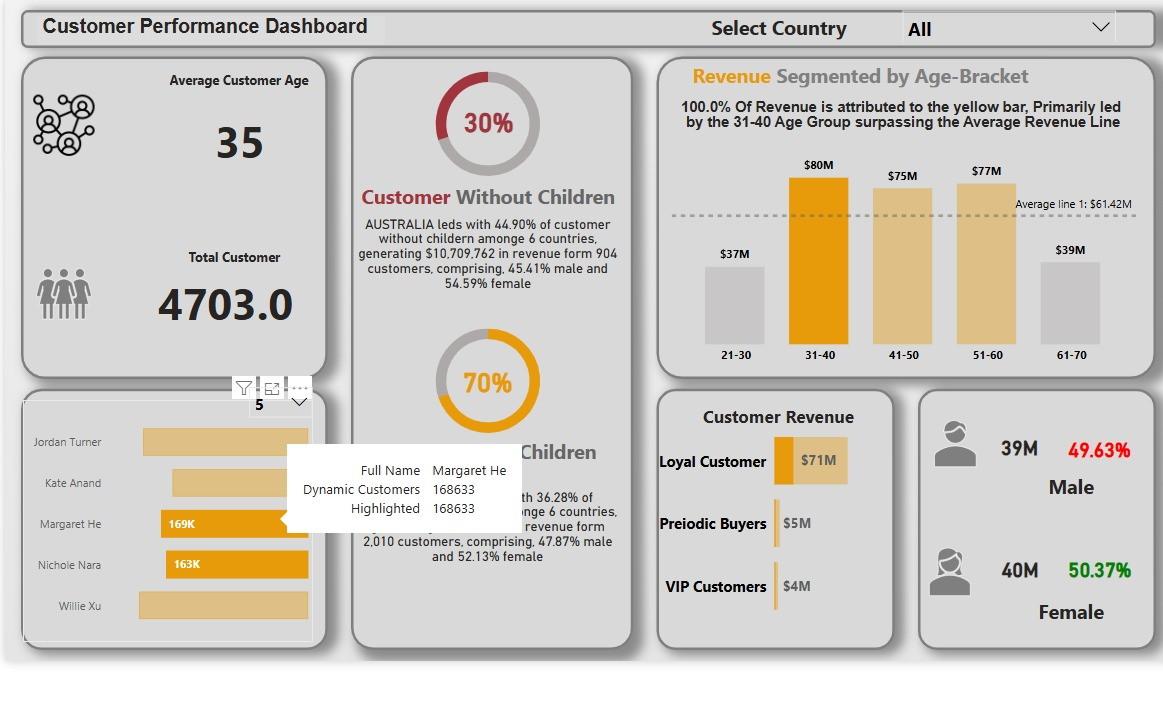

What the dashboard file says about the page in this screenshot:
{"tool":"powerbi","page":{"name":"Day Theme","canvas":[1280,720],"ordinal":0},"visuals":[{"type":"textbox","box":[35,19,378,30.6],"z":0},{"type":"clusteredColumnChart","fields":{"Category":["DimCustomer.Age Category"],"Y":["All Measures.Total Revenue"]},"box":[719.5,159.1,515.2,246.7],"z":1000},{"type":"card","title":"Total Customer","fields":{"Values":["Customer Measure.#Customer"]},"box":[163,282.6,153.3,93.5],"z":2000},{"type":"donutChart","fields":{"Y":["Customer Measure.% CWC","Customer Measure.% C Without childern"]},"box":[429.1,60.3,191.2,151.8],"z":3000,"group":"g2"},{"type":"card","fields":{"Values":["Customer Measure.Avg Caption"]},"box":[704.9,93.4,541.5,65.7],"z":3000},{"type":"textbox","box":[742.9,62.8,392.6,37.9],"z":4000},{"type":"donutChart","fields":{"Y":["Customer Measure.% CWC","Customer Measure.% C Without childern"]},"box":[429.1,338.6,191.2,151.8],"z":4000,"group":"g1"},{"type":"group","id":"g1","title":"Group 2","box":[429.1,338.6,191.2,151.8],"z":5000},{"type":"textbox","box":[173.9,73.9,170.7,38],"z":6000},{"type":"card","fields":{"Values":["Customer Measure.% C Without childern"]},"box":[484.6,99.7,81.7,67.1],"z":6000,"group":"g2"},{"type":"group","id":"g2","title":"Group 3","box":[429.1,60.3,191.2,151.8],"z":7000},{"type":"card","fields":{"Values":["Customer Measure.% CWC"]},"box":[481.6,391.1,86.1,46.7],"z":7000,"group":"g1"},{"type":"textbox","box":[382.4,194.1,299.2,40.9],"z":8000},{"type":"textbox","box":[397,471.4,268.6,37.9],"z":9000},{"type":"card","fields":{"Values":["Customer Measure.Caption Customer Without Children"]},"box":[375.1,510.8,299.2,127],"z":10000},{"type":"card","fields":{"Values":["Customer Measure.Caption Customer With Children"]},"box":[375.1,214.5,299.2,127],"z":11000},{"type":"barChart","fields":{"Category":["DimCustomer.Customer Type"],"Y":["All Measures.Total Revenue"]},"box":[704.3,435.7,257.1,262.9],"z":12000},{"type":"clusteredBarChart","fields":{"Category":["DimCustomer.Full Name"],"Y":["Customer Measure.Dynamic Customers"]},"box":[20,436.2,315,262.5],"z":13000},{"type":"slicer","fields":{"Values":["Dynamic Customer.Dynamic Customer"]},"box":[255.4,412,89.1,45.7],"z":14000},{"type":"card","fields":{"Values":["Customer Measure.Male Revenu"]},"box":[1060.9,462,83.7,52.2],"z":15000},{"type":"card","fields":{"Values":["Customer Measure.Female Revenu"]},"box":[1066.3,583.7,73.9,73.9],"z":16000},{"type":"card","fields":{"Values":["Customer Measure.% Male"]},"box":[1144.6,463,90.2,54.3],"z":17000},{"type":"card","fields":{"Values":["Customer Measure.% Female"]},"box":[1144.6,583.7,90.2,73.9],"z":18000},{"type":"card","fields":{"Values":["Customer Measure.Average Customer Age"]},"box":[194.6,112,121.7,82.6],"z":19000},{"type":"textbox","box":[194.6,266.3,170.7,38],"z":20000},{"type":"textbox","box":[1023.9,509.8,232.6,42.4],"z":21000},{"type":"textbox","box":[1012,645.7,222.8,42.4],"z":22000},{"type":"textbox","box":[719.6,435.9,242.4,42.4],"z":23000},{"type":"slicer","fields":{"Values":["DimGeography.Country"]},"box":[971,8,242,39],"z":24000},{"type":"textbox","box":[737,10.9,208.7,38],"z":24001}]}

Visuals, with their boxes on the page's 1280x720 design canvas (x1, y1, x2, y2). These are canvas units, not pixel positions in the 1163x720 screenshot, which may show the page scaled, cropped or inside an application window:
textbox: [left=35, top=19, right=413, bottom=50]
clusteredColumnChart - DimCustomer.Age Category x All Measures.Total Revenue: [left=720, top=159, right=1235, bottom=406]
"Total Customer" card: [left=163, top=283, right=316, bottom=376]
donutChart - Customer Measure.% CWC x Customer Measure.% C Without childern: [left=429, top=60, right=620, bottom=212]
card - Customer Measure.Avg Caption: [left=705, top=93, right=1246, bottom=159]
textbox: [left=743, top=63, right=1136, bottom=101]
donutChart - Customer Measure.% CWC x Customer Measure.% C Without childern: [left=429, top=339, right=620, bottom=490]
"Group 2" group: [left=429, top=339, right=620, bottom=490]
textbox: [left=174, top=74, right=345, bottom=112]
card - Customer Measure.% C Without childern: [left=485, top=100, right=566, bottom=167]
"Group 3" group: [left=429, top=60, right=620, bottom=212]
card - Customer Measure.% CWC: [left=482, top=391, right=568, bottom=438]
textbox: [left=382, top=194, right=682, bottom=235]
textbox: [left=397, top=471, right=666, bottom=509]
card - Customer Measure.Caption Customer Without Children: [left=375, top=511, right=674, bottom=638]
card - Customer Measure.Caption Customer With Children: [left=375, top=214, right=674, bottom=342]
barChart - DimCustomer.Customer Type x All Measures.Total Revenue: [left=704, top=436, right=961, bottom=699]
clusteredBarChart - DimCustomer.Full Name x Customer Measure.Dynamic Customers: [left=20, top=436, right=335, bottom=699]
slicer - Dynamic Customer.Dynamic Customer: [left=255, top=412, right=344, bottom=458]
card - Customer Measure.Male Revenu: [left=1061, top=462, right=1145, bottom=514]
card - Customer Measure.Female Revenu: [left=1066, top=584, right=1140, bottom=658]
card - Customer Measure.% Male: [left=1145, top=463, right=1235, bottom=517]
card - Customer Measure.% Female: [left=1145, top=584, right=1235, bottom=658]
card - Customer Measure.Average Customer Age: [left=195, top=112, right=316, bottom=195]
textbox: [left=195, top=266, right=365, bottom=304]
textbox: [left=1024, top=510, right=1256, bottom=552]
textbox: [left=1012, top=646, right=1235, bottom=688]
textbox: [left=720, top=436, right=962, bottom=478]
slicer - DimGeography.Country: [left=971, top=8, right=1213, bottom=47]
textbox: [left=737, top=11, right=946, bottom=49]
